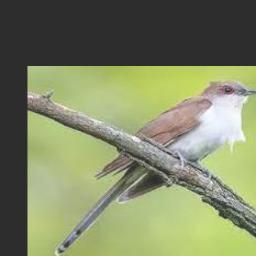Cuckoo: (54, 79, 256, 256)
